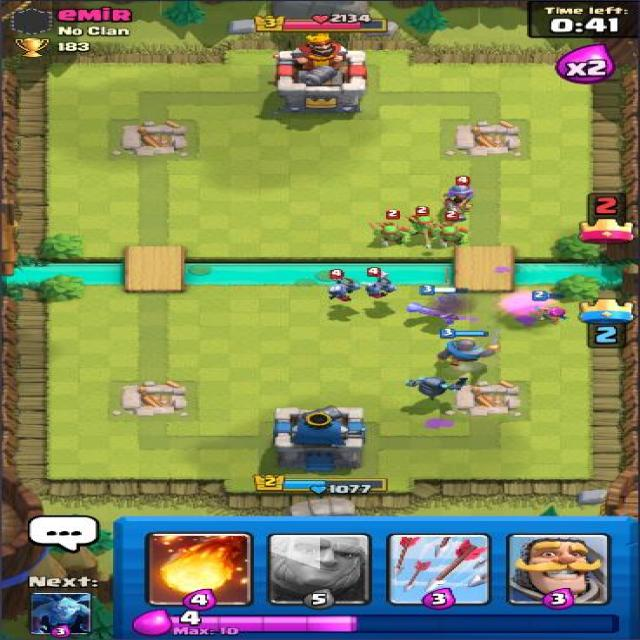Enemy-Minion: (358, 266, 400, 301), (322, 268, 363, 303)
Enemy-Musketeer: (440, 174, 477, 216)
Enemy-SpearGoblin: (367, 208, 414, 249), (431, 211, 473, 248), (408, 206, 442, 241)
Player-Archer: (531, 289, 572, 327)
Player-Knight: (433, 327, 503, 368)
Player-MiniPEKKA: (402, 373, 471, 402)
Player-Musketeer: (404, 284, 473, 325)
